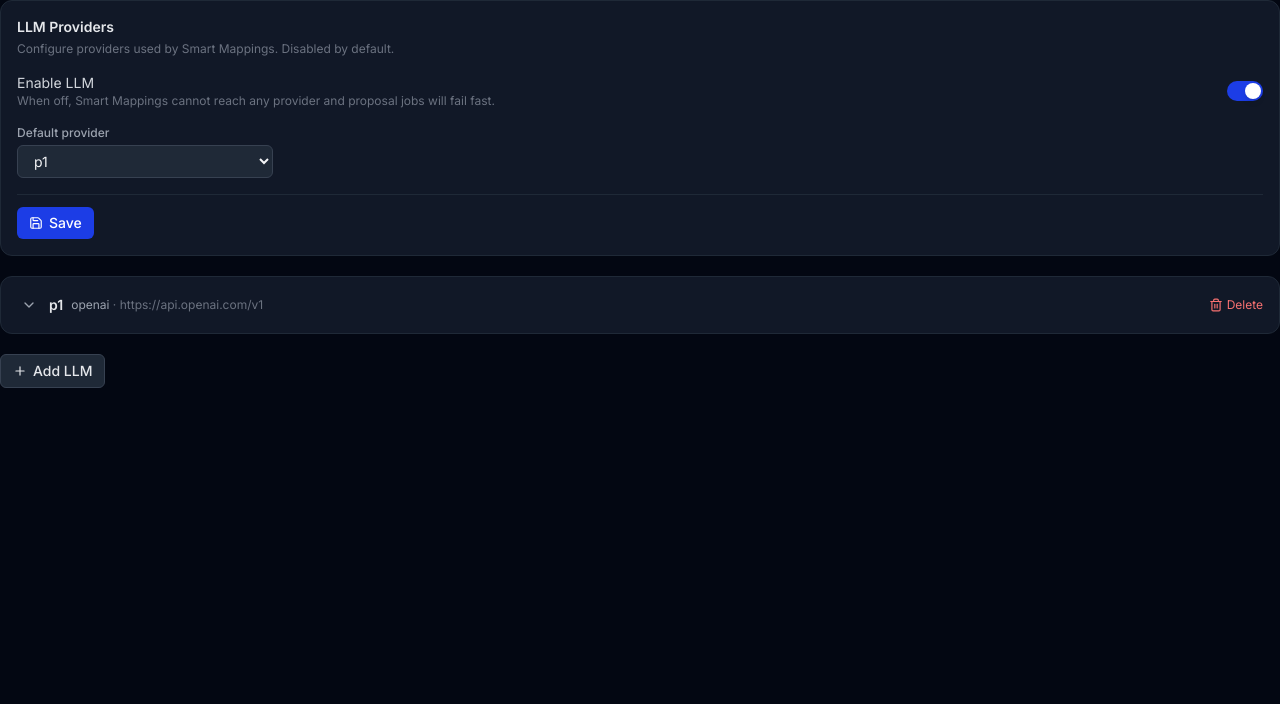
Scenario: LLMProvidersTab › loads existing providers and renders the redacted key indicator
expect the heading "p1" is shown: met, box [49,295,63,315]
Click the button named "Expand p1" at (29, 305), box [17,293,41,317]
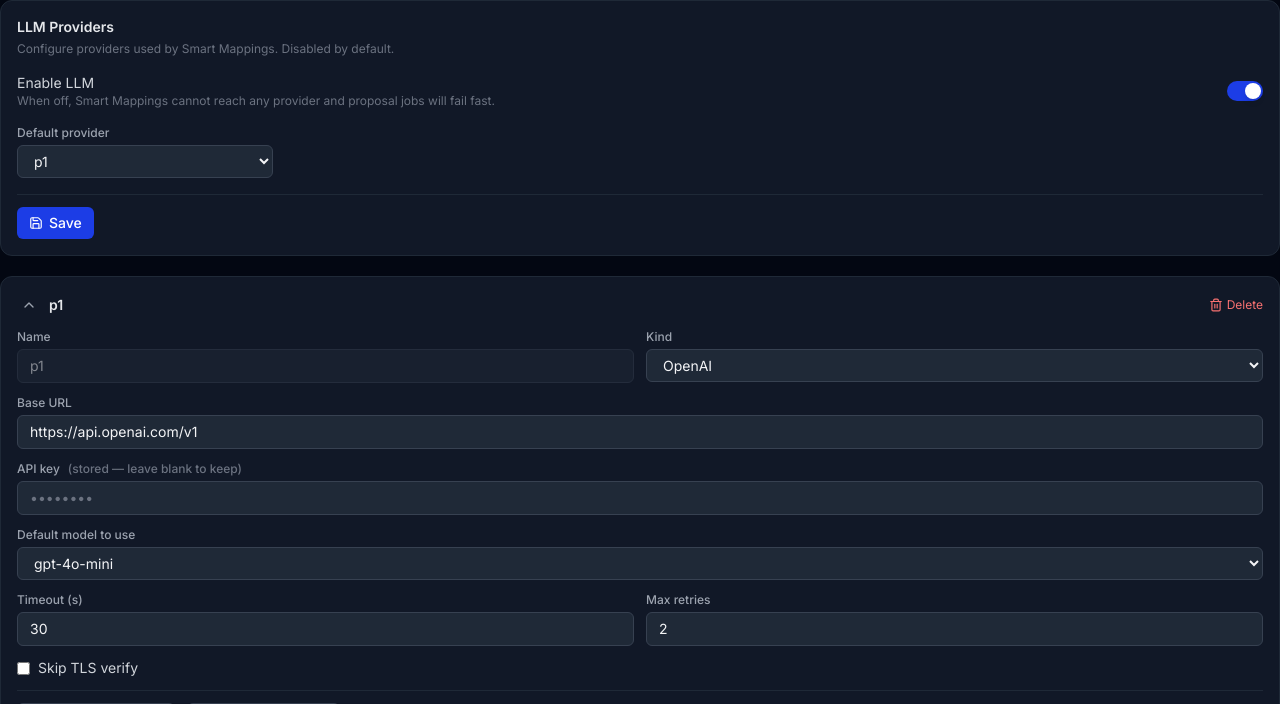
expect the text "(stored — leave blank to keep)" is shown: met, box [68,461,242,476]
expect the password field labelled "API key(stored — leave blank to keep)" is empty: met, box [17,481,1263,515]
